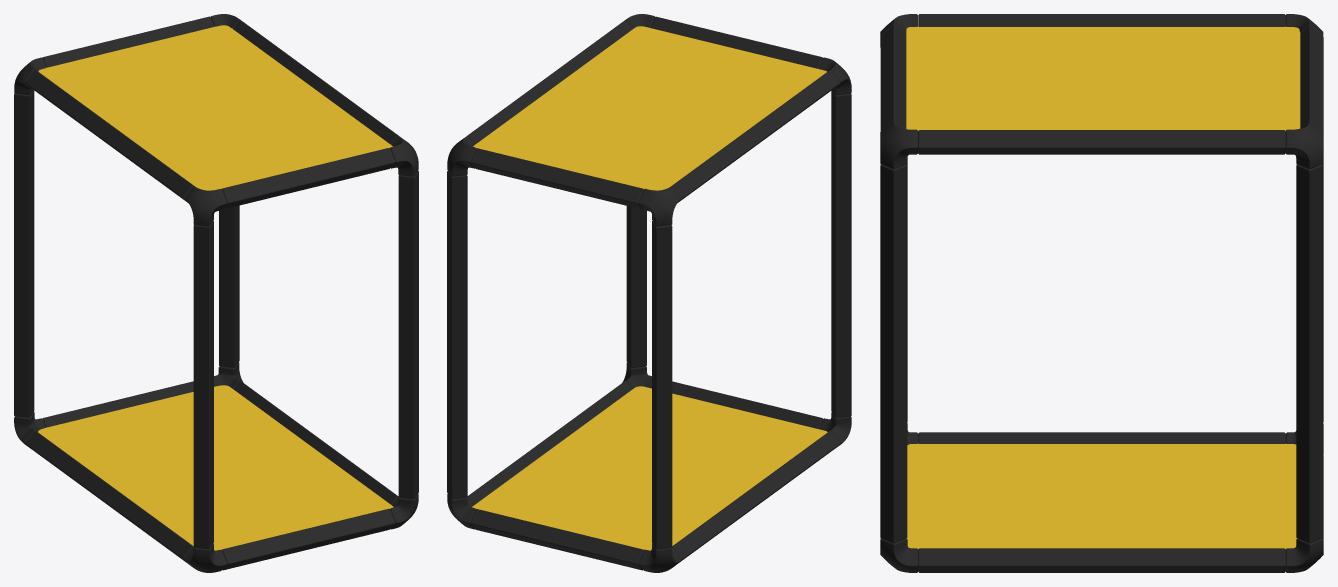
3 renders of one model, left to right at view 1: azimuth 30°, elevation 25°; view 2: azimuth 150°, elevation 25°; view 3: azimuth 270°, elevation 25°, orthographic. The views are drawn at different scales.
Parts seen in each view (by area): view 1: 229x374x420; view 2: 229x374x420; view 3: 229x374x420.
Part boxes in pixels (x1,y1,x2,y2): 229x374x420: [14, 14, 418, 572]; 229x374x420: [447, 14, 851, 572]; 229x374x420: [880, 14, 1323, 572].
Bounding box in the file's own units: 0.3067 × 0.4976 × 0.4513.
